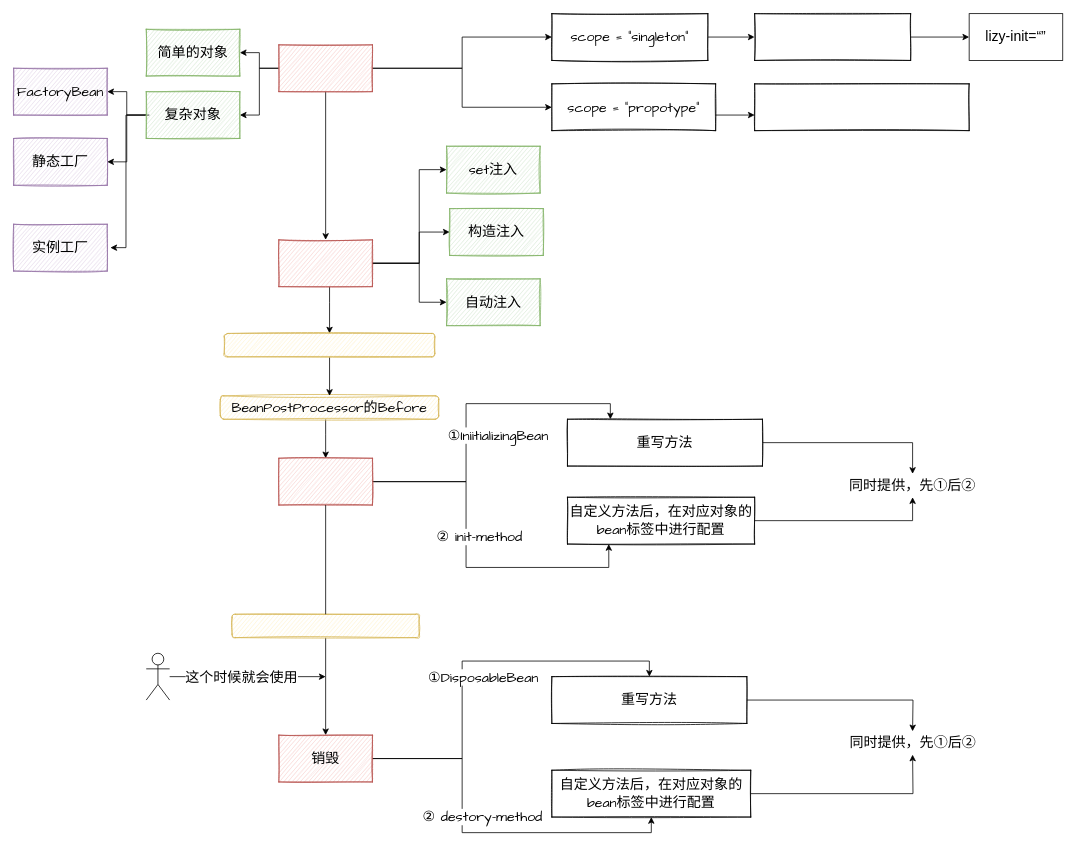
The diagram is 1076 pixels wide and 853 high, and some of its shapes have lost their labels. The centre of each missing label's shape, as x and y in pixels:
Actor: [157,676]
BeanPostProcessor的After: [325,625]
依赖注入: [325,263]
创建: [325,68]
初始化: [325,481]
反正会创建多次，又不知道会不会用，所以在用的时候进行创建: [861,107]
容器注入: [329,345]
工厂创建的时候，就创建: [832,36]
